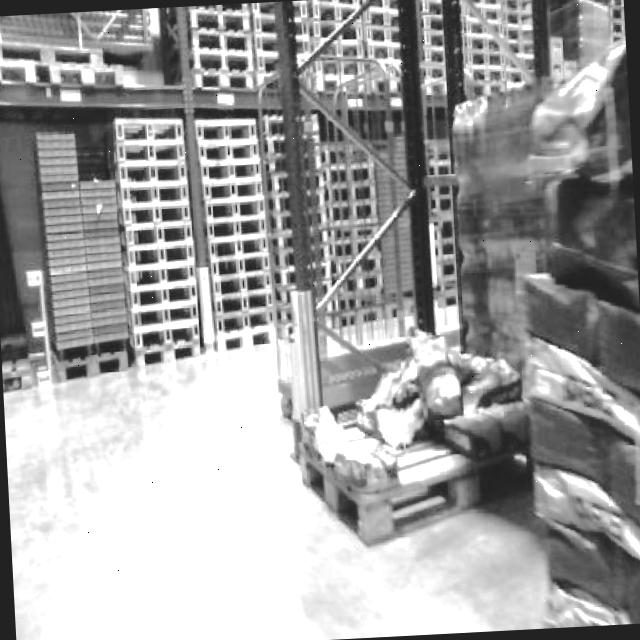ground: (3, 322, 553, 640)
pallet: (291, 322, 536, 549), (277, 336, 533, 550), (0, 15, 142, 390), (515, 240, 640, 628), (183, 0, 542, 120), (278, 279, 472, 463), (268, 119, 395, 338), (34, 122, 133, 373), (114, 111, 204, 367), (195, 113, 275, 352), (0, 27, 128, 93), (596, 0, 627, 66)
